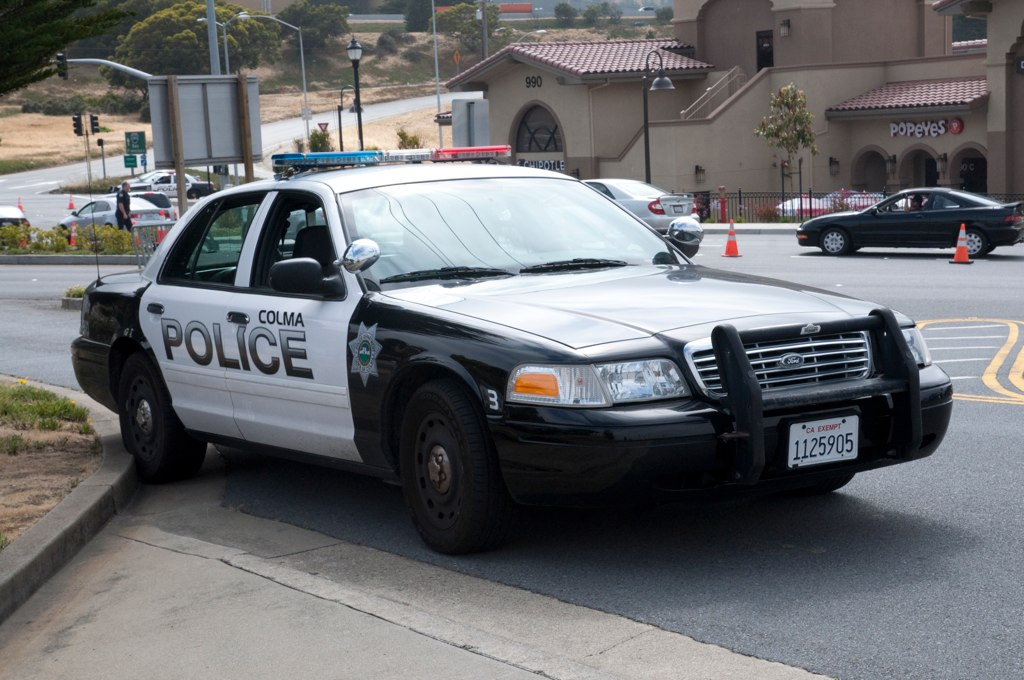Car: (84, 164, 946, 541), (785, 176, 1023, 257)
Road_cone: (953, 229, 978, 268), (721, 220, 744, 256)
